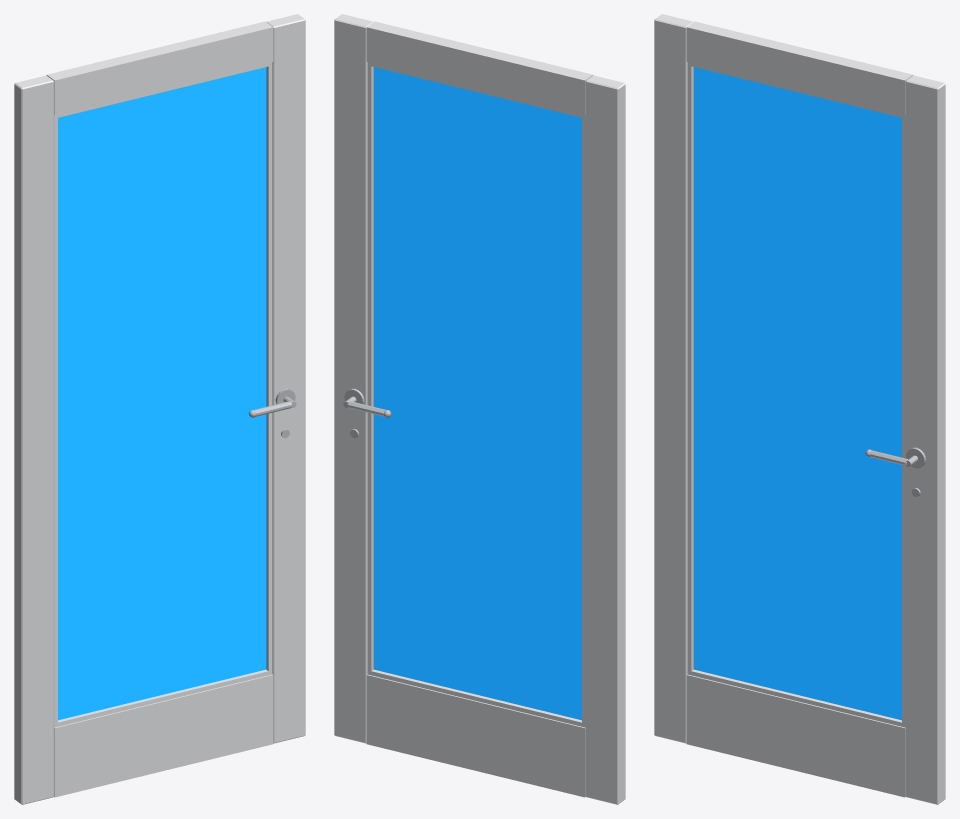
Rendered from porta_vidro_inteiro_branca.glb.
3 renders of one model, left to right at view 1: azimuth 30°, elevation 25°; view 2: azimuth 150°, elevation 25°; view 3: azimuth 330°, elevation 25°, orthographic.
Visible parts, largest first — view 1: porta_vidro_inteiro_branca; view 2: porta_vidro_inteiro_branca; view 3: porta_vidro_inteiro_branca.
Boxes of the visible parts, x1,y1,x2,y2 form: porta_vidro_inteiro_branca: (14, 14, 305, 804); porta_vidro_inteiro_branca: (334, 14, 625, 804); porta_vidro_inteiro_branca: (654, 14, 945, 804).
Bounding box in the file's own units: 0.86 × 2.07 × 0.143.
